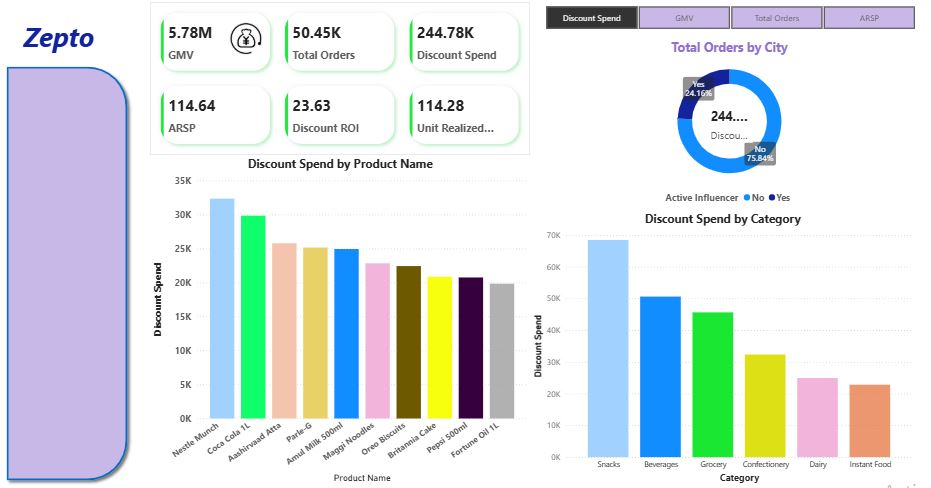

This screenshot's page, from the dashboard's own definition file:
{"tool":"powerbi","page":{"name":"Page 1","canvas":[1500,800],"ordinal":0},"visuals":[{"type":"shape","box":[12.8,107.2,211.2,680],"z":0},{"type":"textbox","box":[43.6,33.5,140.8,73.7],"z":1000},{"type":"cardVisual","fields":{"Data":["zepto_sales_dataset.GMV","zepto_sales_dataset.Total Orders","zepto_sales_dataset.Discount Spend","zepto_sales_dataset.ARSP","zepto_sales_dataset.Discount ROI","zepto_sales_dataset.Unit Realized Price"]},"box":[251.4,13.4,608.4,244.7],"z":2000},{"type":"lineClusteredColumnComboChart","fields":{"Category":["zepto_sales_dataset.Product Name"],"Y":["zepto_sales_dataset.Discount Spend"]},"box":[251.4,258.1,608.4,529.6],"z":3000},{"type":"clusteredColumnChart","fields":{"Category":["zepto_sales_dataset.Category"],"Y":["zepto_sales_dataset.Discount Spend"]},"box":[859.8,345.3,616.8,442.5],"z":4000},{"type":"donutChart","title":"Total Orders by City","fields":{"Category":["zepto_sales_dataset.Influencer Active"],"Y":["zepto_sales_dataset.Discount Spend"]},"box":[879.9,70.4,596.6,274.9],"z":5000},{"type":"slicer","fields":{"Values":["Merics.Merics"]},"box":[859.8,13.4,640.2,50.3],"z":6000},{"type":"card","fields":{"Values":["zepto_sales_dataset.Discount Spend"]},"box":[1139.7,176,77.1,62],"z":6001}]}

Visuals, with their boxes in screenshot pixels (x1, y1, x2, y2), scaled from the page's 1500x800 canvas onto the 931x488 screenshot:
shape: select_region(8, 65, 139, 480)
textbox: select_region(27, 20, 114, 65)
cardVisual - zepto_sales_dataset.GMV x zepto_sales_dataset.Total Orders: select_region(156, 8, 534, 157)
lineClusteredColumnComboChart - zepto_sales_dataset.Product Name x zepto_sales_dataset.Discount Spend: select_region(156, 157, 534, 480)
clusteredColumnChart - zepto_sales_dataset.Category x zepto_sales_dataset.Discount Spend: select_region(534, 211, 916, 481)
"Total Orders by City" donutChart: select_region(546, 43, 916, 211)
slicer - Merics.Merics: select_region(534, 8, 930, 39)
card - zepto_sales_dataset.Discount Spend: select_region(707, 107, 755, 145)
